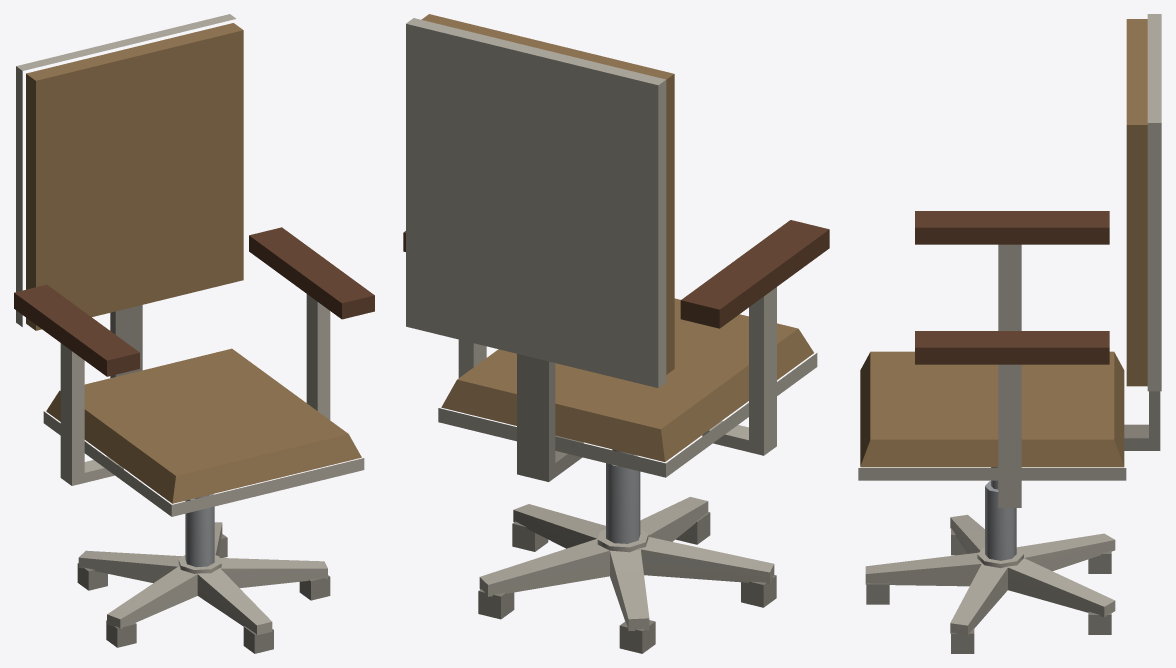
File: seat.office.tan.glb
3 views of the same model, side by side, from view 1: azimuth 30°, elevation 25°; view 2: azimuth 150°, elevation 25°; view 3: azimuth 270°, elevation 25° (orthographic). The views are drawn at different scales.
Visible parts, largest first — view 1: seat_office_tan; view 2: seat_office_tan; view 3: seat_office_tan.
Boxes of the visible parts, box(x1,y1,x2,y2) form: seat_office_tan: box(14, 14, 374, 653); seat_office_tan: box(403, 14, 829, 653); seat_office_tan: box(858, 14, 1161, 653).
Size of what is drawn, in the model's own units: 0.695 by 1.26 by 0.652.
